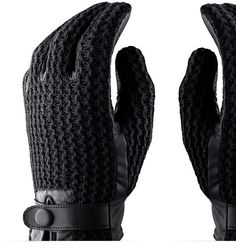gloves: (22, 2, 155, 240)
